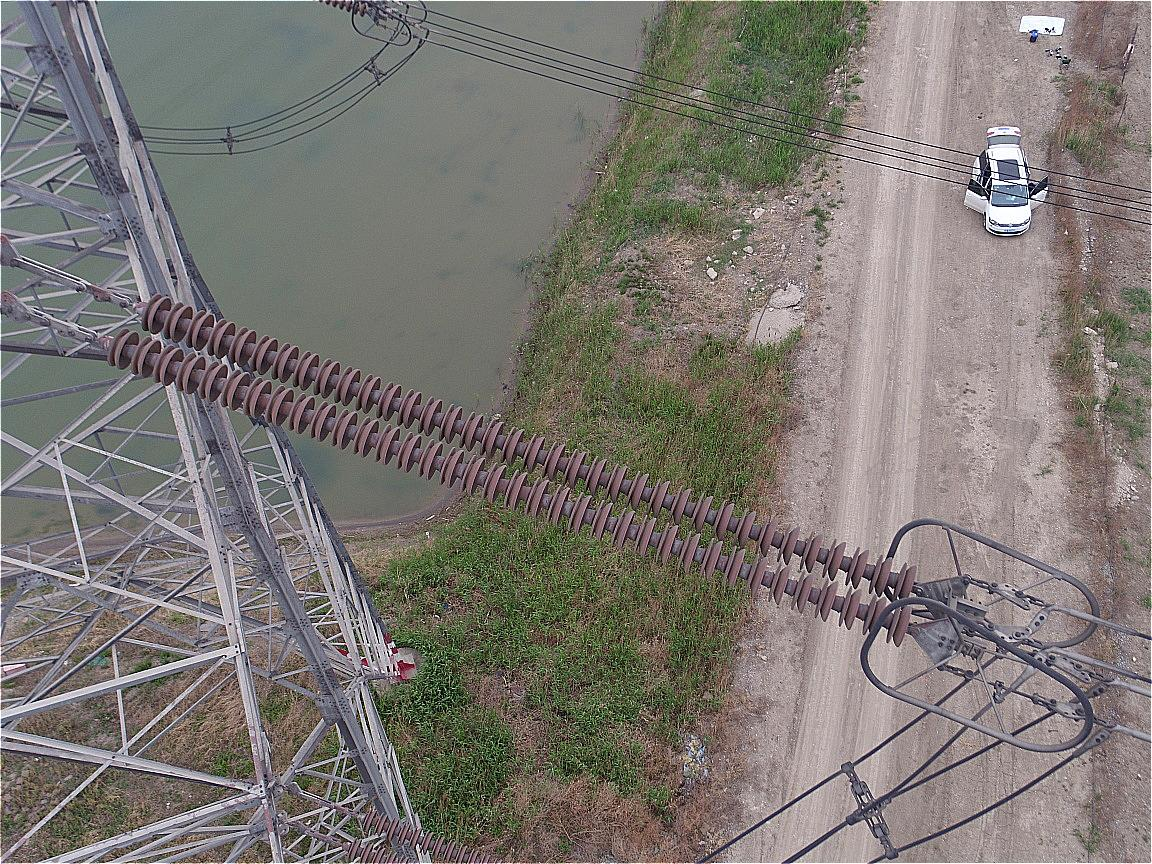insultor2: (110, 294, 918, 647)
